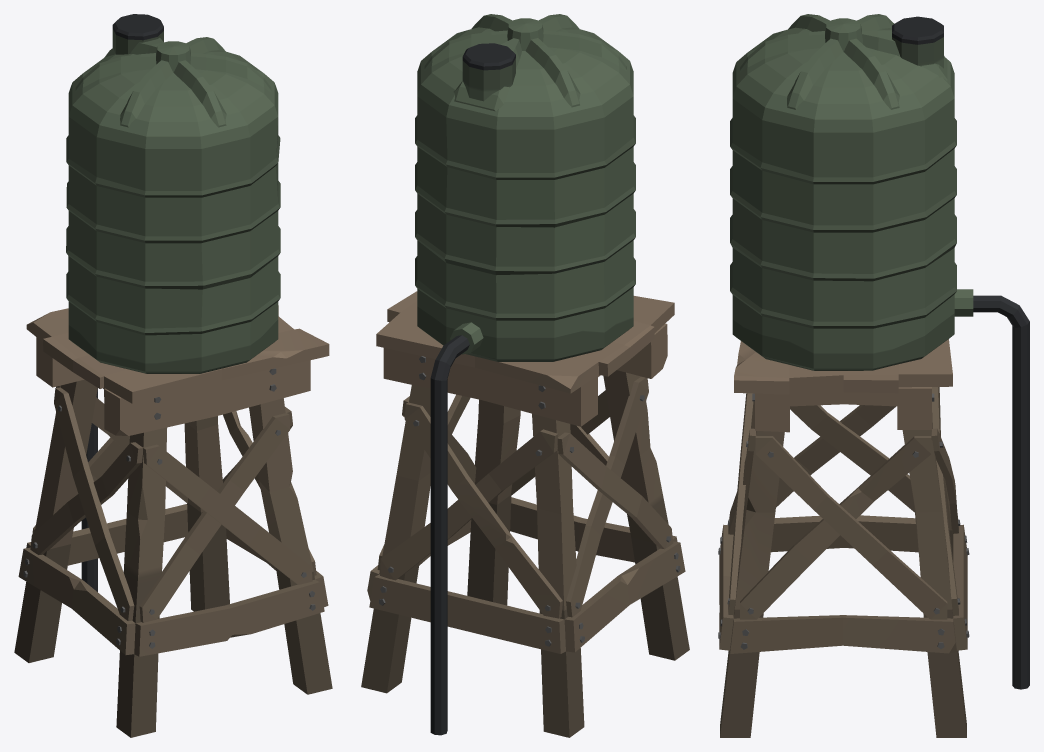
File: SM_Bld_WaterTank_01.fbx
3 views of the same model, side by side, from view 1: azimuth 30°, elevation 25°; view 2: azimuth 150°, elevation 25°; view 3: azimuth 270°, elevation 25° (orthographic). The views are drawn at different scales.
Visible parts, largest first — view 1: SM_Bld_WaterTank_01; view 2: SM_Bld_WaterTank_01; view 3: SM_Bld_WaterTank_01.
Boxes of the visible parts, x1,y1,x2,y2 form: SM_Bld_WaterTank_01: (14,14,332,737); SM_Bld_WaterTank_01: (361,14,689,737); SM_Bld_WaterTank_01: (718,14,1029,737).
Size of the model in its own units: 287 by 806 by 344.
